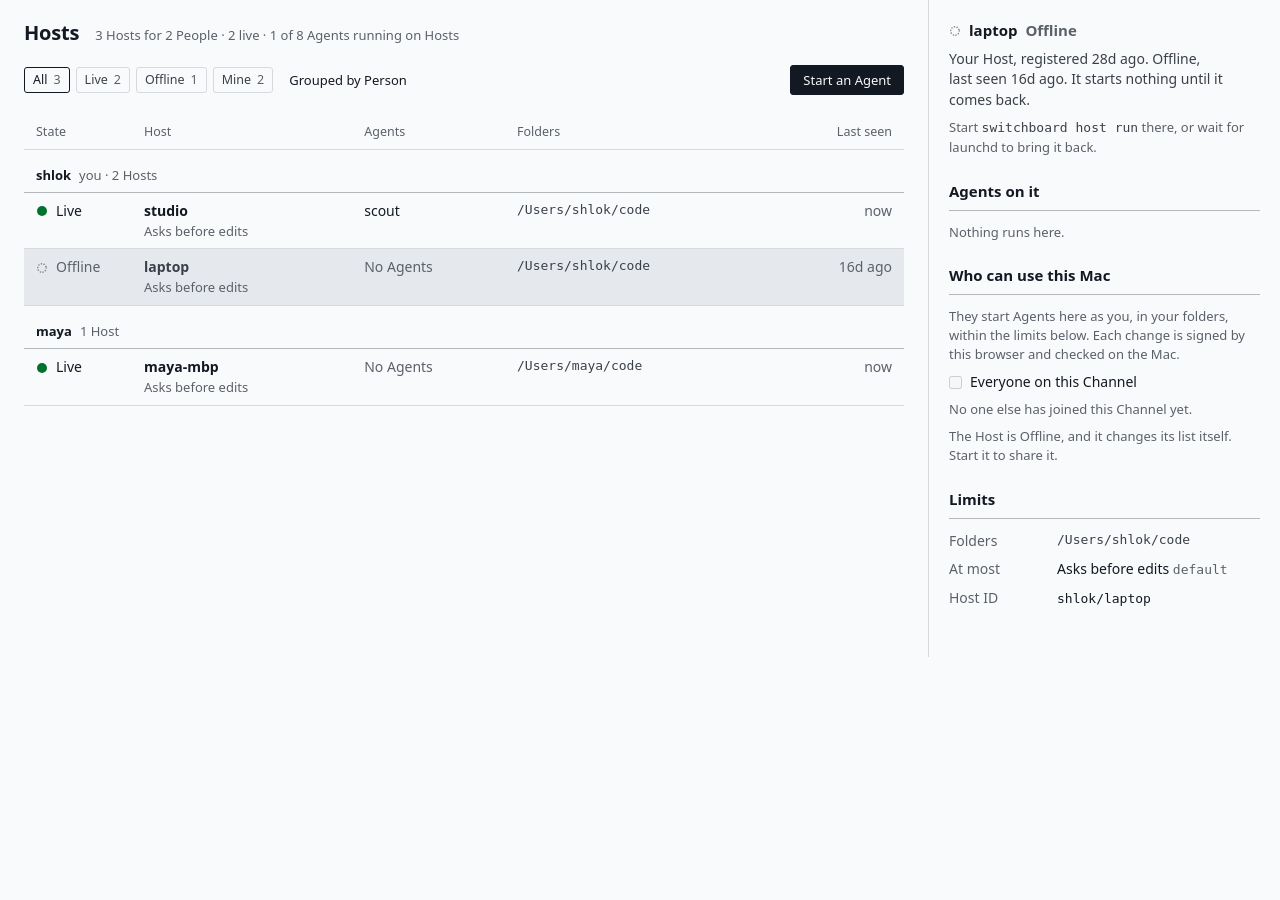
Test: the Hosts view › reads the Host the link names in the inspector, and narrows to the Offline ones
Check: the text "switchboard host run" is shown, box [982,120,1138,135]
Click the button "Offline 1" at [171, 80], box [136,67,207,93]
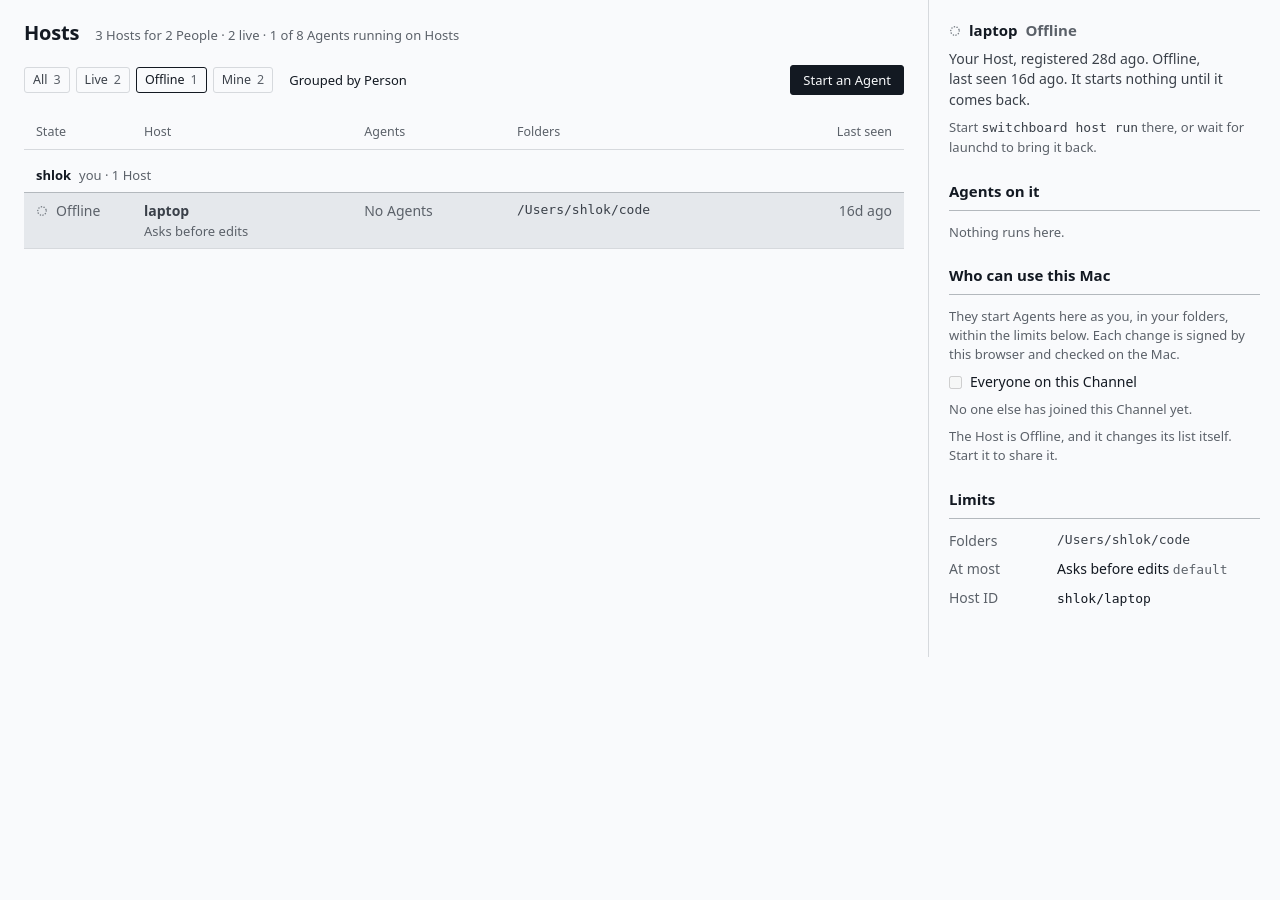
Check: the text "maya-mbp" is gone
